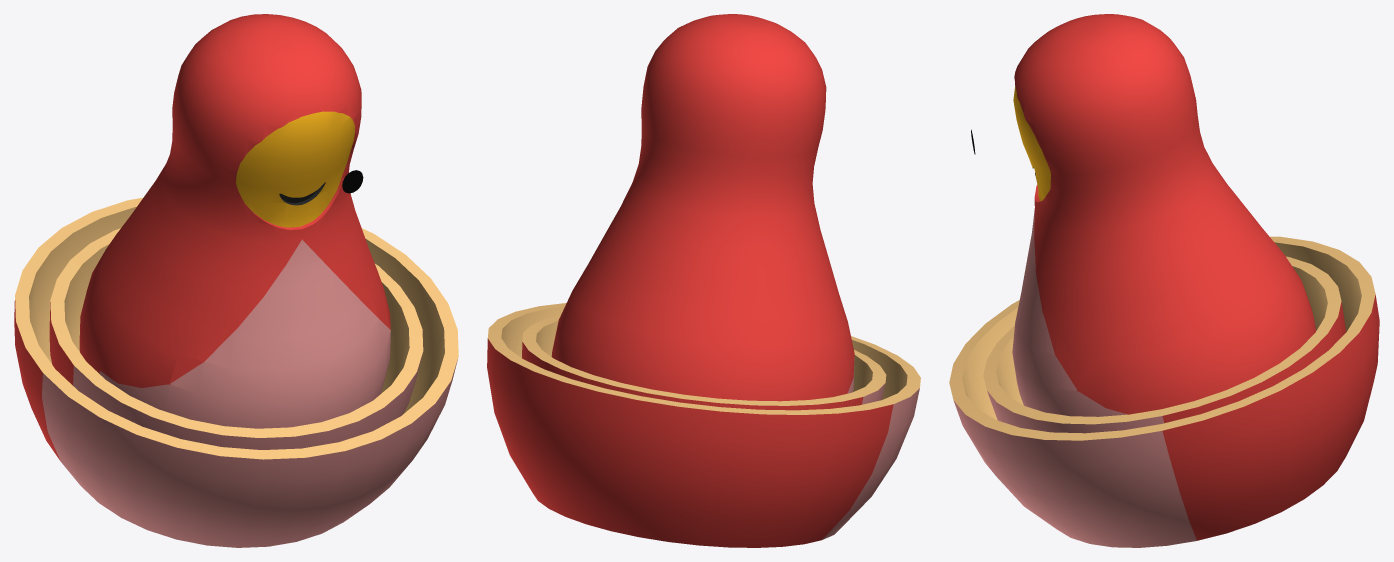
Rendered from nesting_dolls.glb.
3 views of the same model, side by side, from view 1: azimuth 30°, elevation 25°; view 2: azimuth 150°, elevation 25°; view 3: azimuth 270°, elevation 25° (orthographic). The views are drawn at different scales.
Parts seen in each view (by area): view 1: Sphere.524, Sphere.525; view 2: Sphere.524, Sphere.525; view 3: Sphere.524, Sphere.525.
Part boxes in pixels (box(x1,y1,x2,y2)): Sphere.524: box(79, 14, 390, 428); Sphere.525: box(14, 197, 458, 547); Sphere.524: box(551, 14, 854, 401); Sphere.525: box(487, 303, 920, 547); Sphere.524: box(1012, 14, 1315, 416); Sphere.525: box(949, 236, 1379, 547).
Bounding box in the file's own units: 1.81 × 2.2 × 1.78.
Materials: 1 (1 with a texture image).
